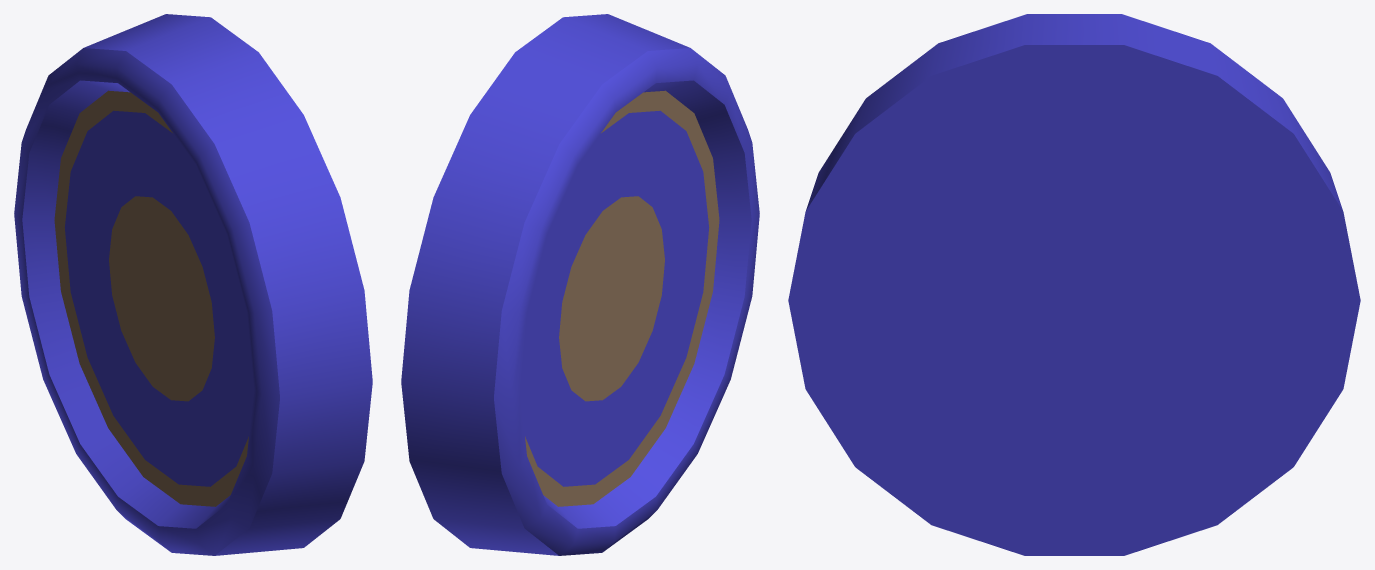
Rendered from SM_FeedbackCible_low.fbx.
3 views of the same model, side by side, from view 1: azimuth 30°, elevation 25°; view 2: azimuth 150°, elevation 25°; view 3: azimuth 270°, elevation 25° (orthographic). The views are drawn at different scales.
Parts seen in each view (by area): view 1: SM_FeedbackCible_low; view 2: SM_FeedbackCible_low; view 3: SM_FeedbackCible_low.
Boxes of the visible parts, left/top/right/bottom form: SM_FeedbackCible_low: left=14, top=14, right=372, bottom=555; SM_FeedbackCible_low: left=401, top=14, right=759, bottom=555; SM_FeedbackCible_low: left=788, top=14, right=1360, bottom=555.
Size of the model in its own units: 15 by 72.94 by 74.06.
